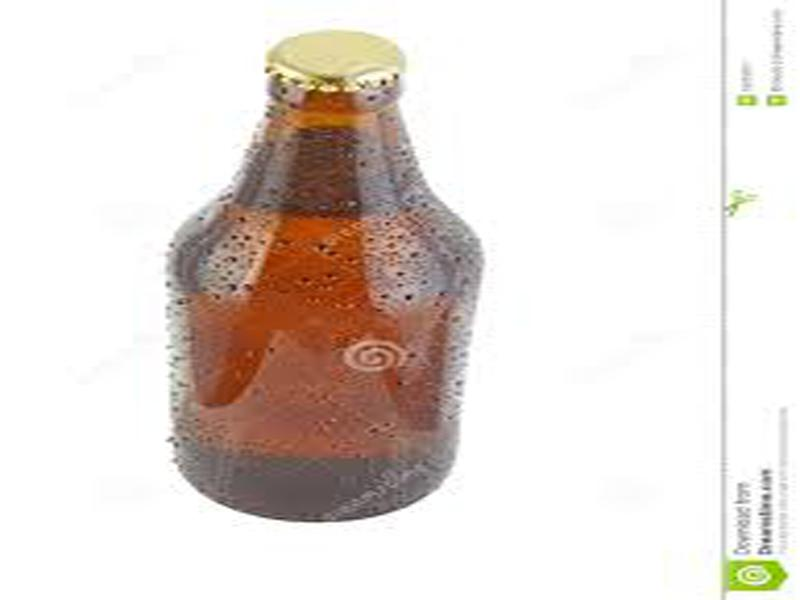Beer: (166, 32, 481, 520)
